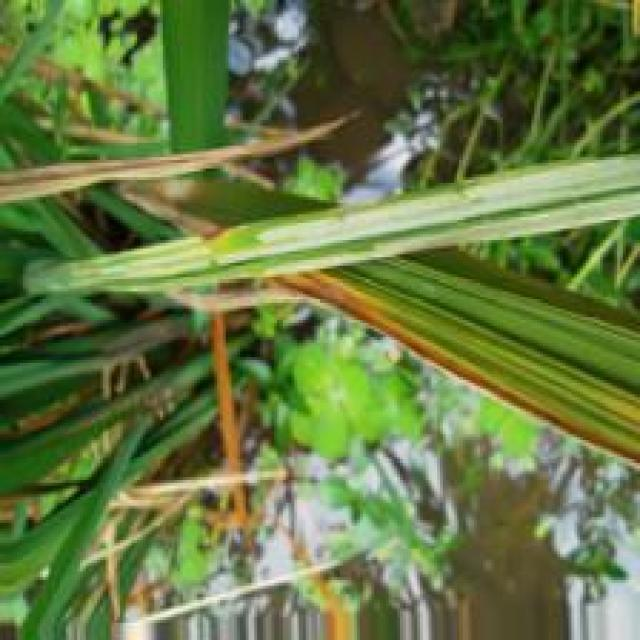Rice_Hispa: (59, 155, 640, 297), (248, 187, 640, 286)
